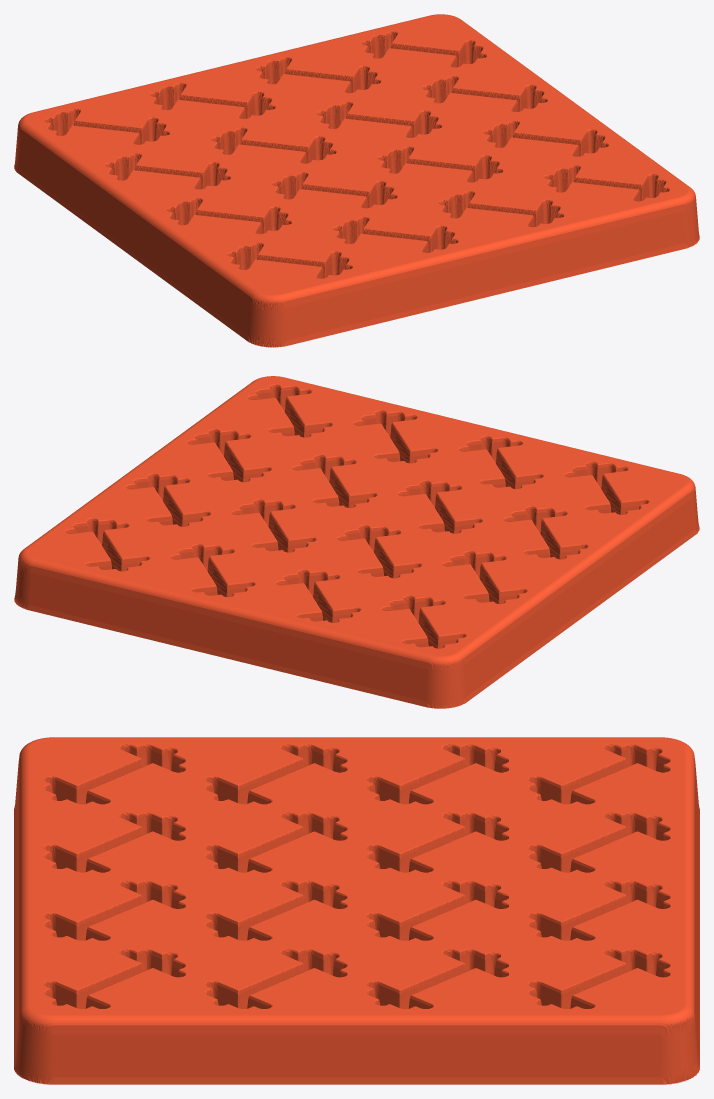
File: mold.glb
The picture shows the model from 3 angles, top to bottom: view 1: azimuth 30°, elevation 25°; view 2: azimuth 150°, elevation 25°; view 3: azimuth 270°, elevation 25°; orthographic projection. The views are drawn at different scales.
Parts seen in each view (by area): view 1: geometry_0; view 2: geometry_0; view 3: geometry_0.
Boxes of the visible parts, box(x1,y1,x2,y2) form: geometry_0: box(14, 14, 699, 347); geometry_0: box(14, 376, 699, 708); geometry_0: box(14, 737, 699, 1084).
Bounding box in the file's own units: 0.1569 × 0.0159 × 0.1569.
